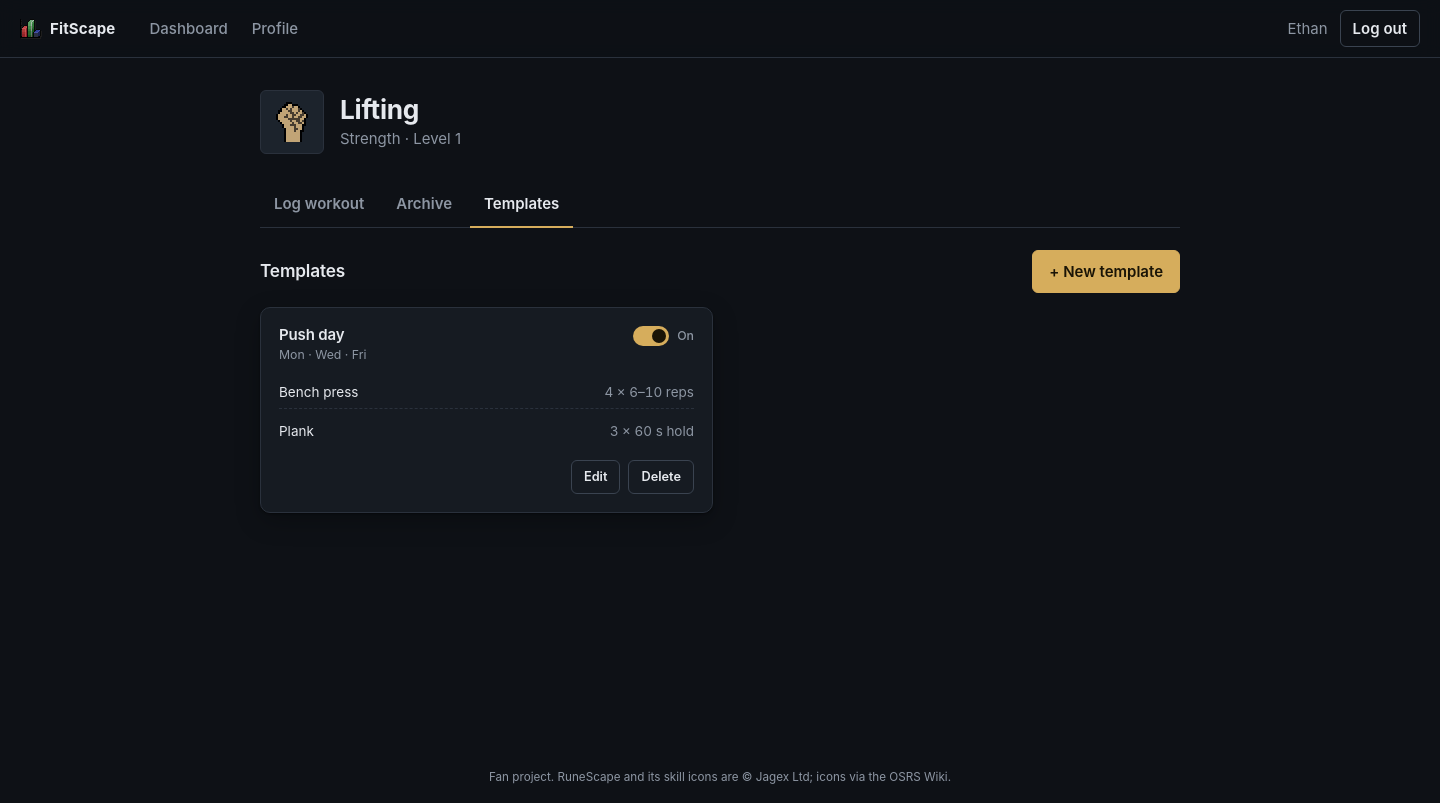
it: Lifting templates › edits a template in place
Click the button "Edit" at (596, 477), box [571,460,620,494]
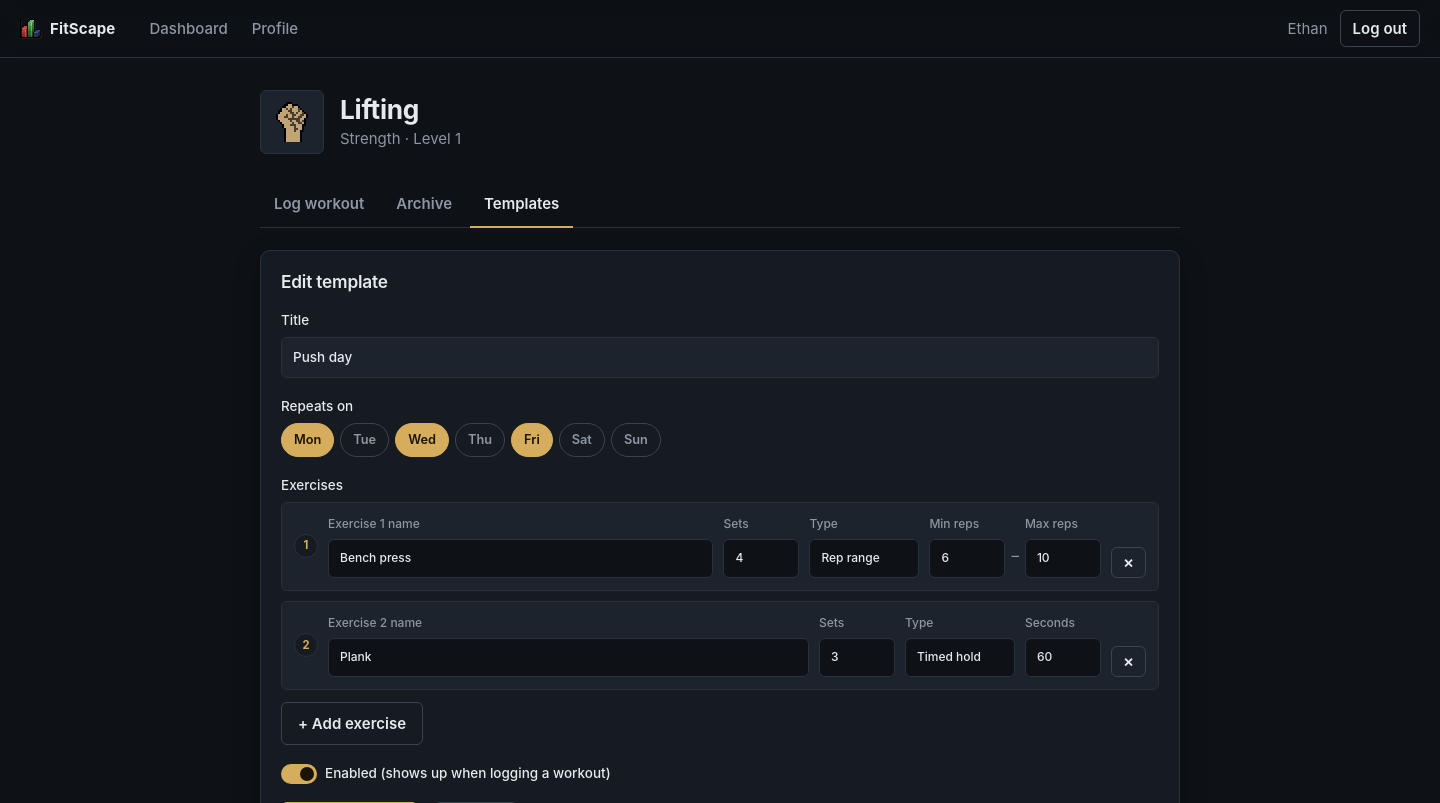
Expected: the field labelled "Title" holds "Push day"
Expected: the field labelled "Exercise 2 name" holds "Plank", [328,638,809,677]
Expected: the number field labelled "Seconds" holds "60", [1025,638,1101,677]
Replace the text in the field labelled "Title" with "Push A" at (720, 357), box [281,337,1159,378]
(page scrolled)
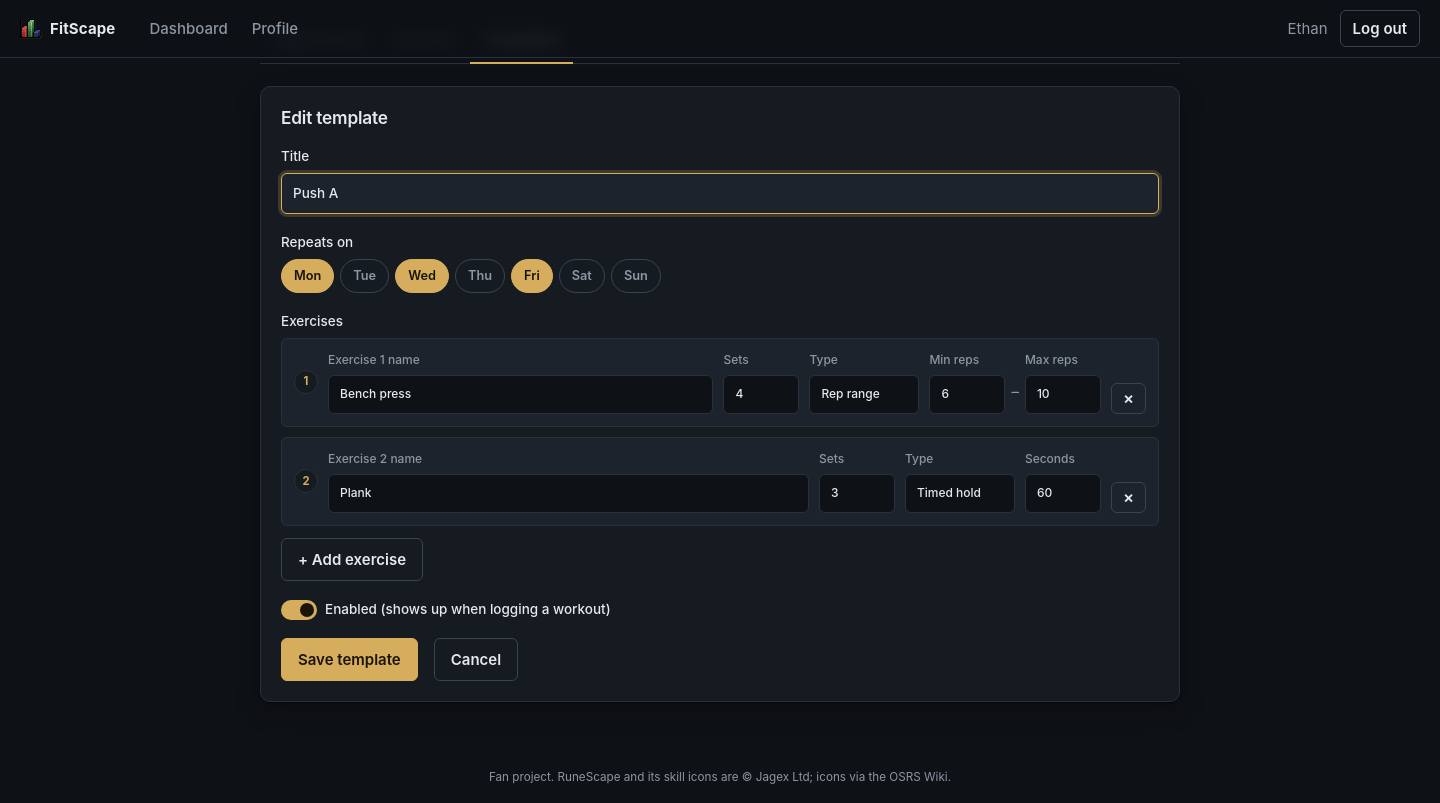
Click the button "Save template" at (349, 660), box [281,638,418,681]
(page scrolled)
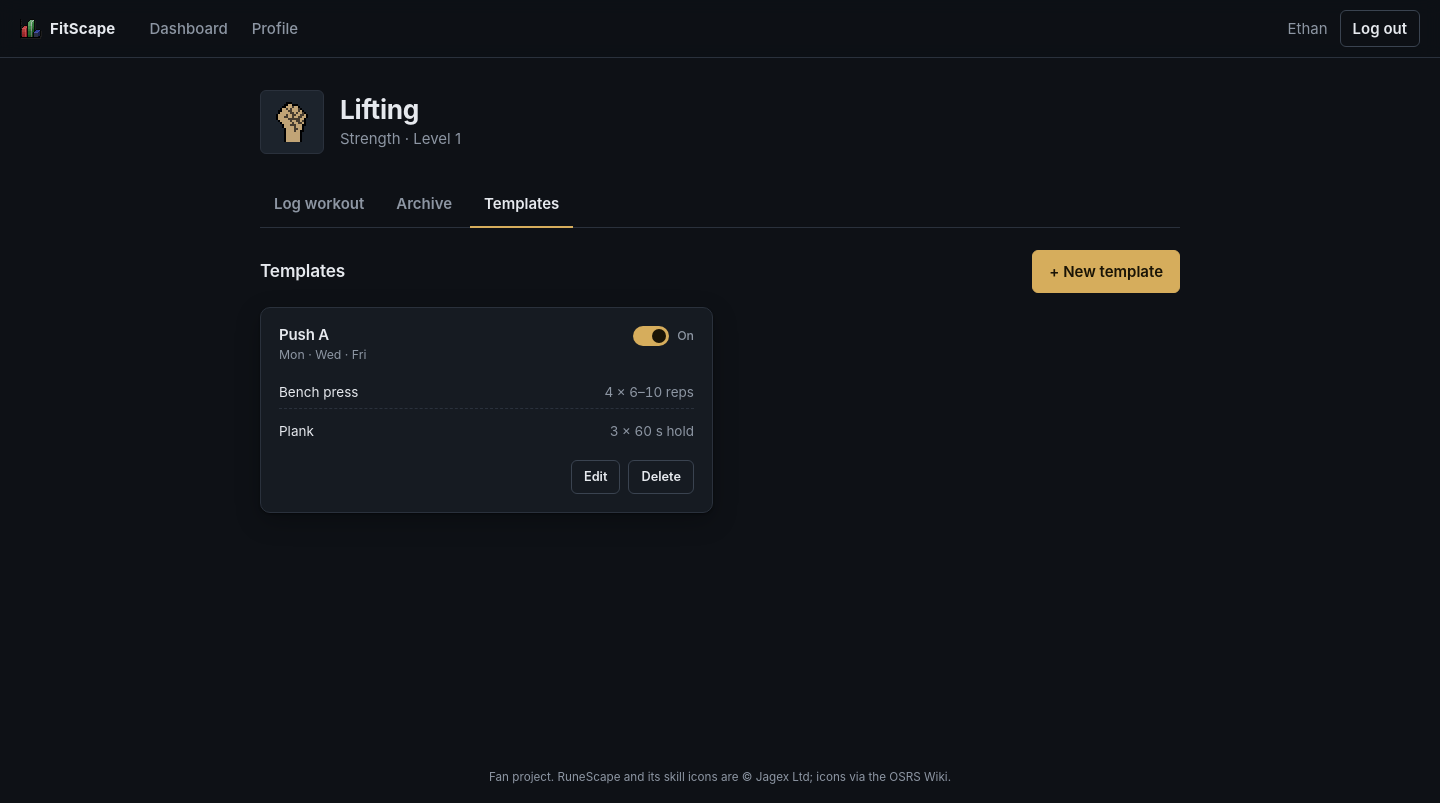
Expected: the heading "Push A" is shown, [279,325,329,344]
